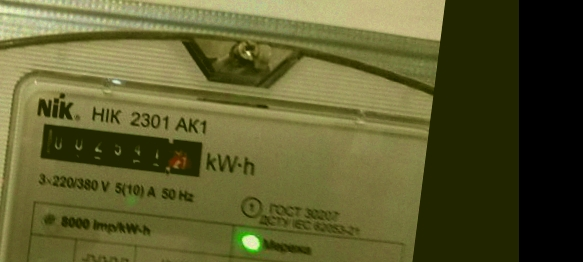0: (49, 129, 65, 151), (70, 129, 85, 152)
1: (149, 140, 162, 161)
2: (90, 133, 105, 154)
4: (130, 137, 145, 159)
5: (109, 134, 124, 157)
6: (170, 155, 183, 171)
screen: (27, 111, 215, 188)
